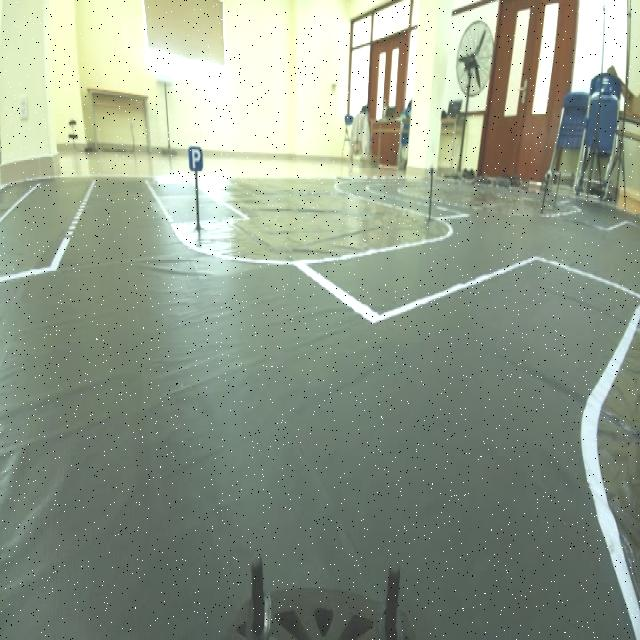parking: (187, 139, 208, 175)
